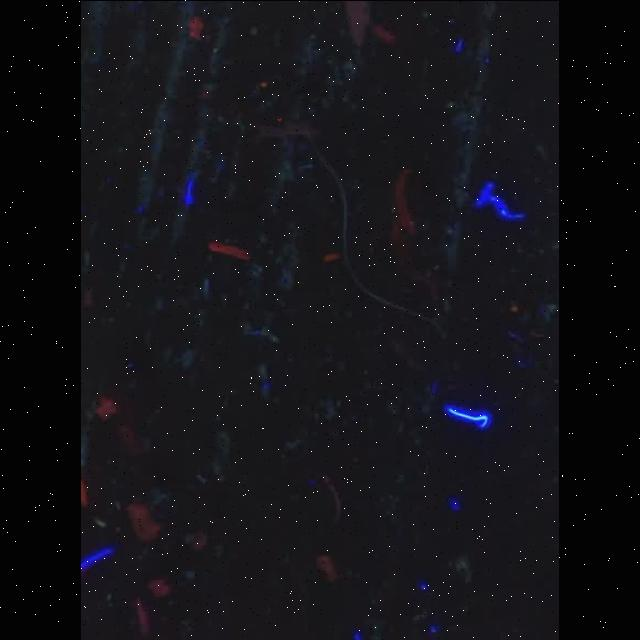Fragment: (188, 15, 203, 38)
